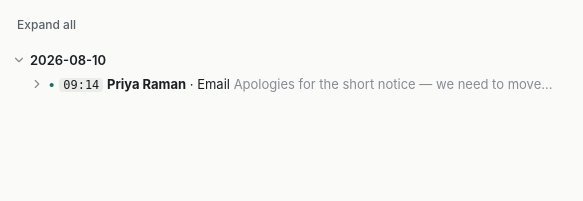
Test: a log of records › opens one message and only that message, leaving its quoted chain shut
Click the button named "sub-points".
click(37, 84)  # box top-left (30, 77), bottom-right (44, 91)
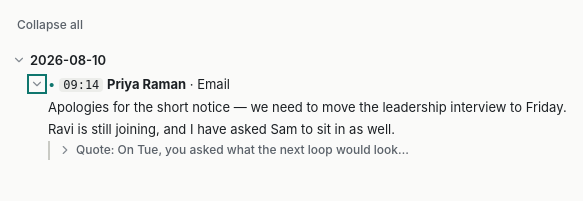
Expected: the text "Ravi is still joining" is shown, top-left (48, 121), bottom-right (395, 137)
Click the button named "Quote:".
click(65, 150)  # box top-left (58, 143), bottom-right (72, 157)
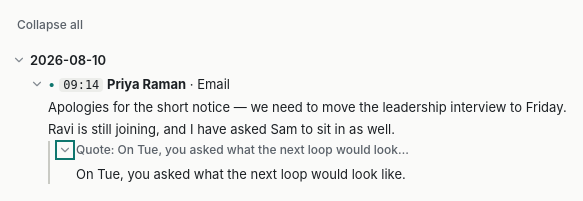
Expected: the text "On Tue, you asked what the next loop would look like." is shown, top-left (76, 166), bottom-right (406, 182)
